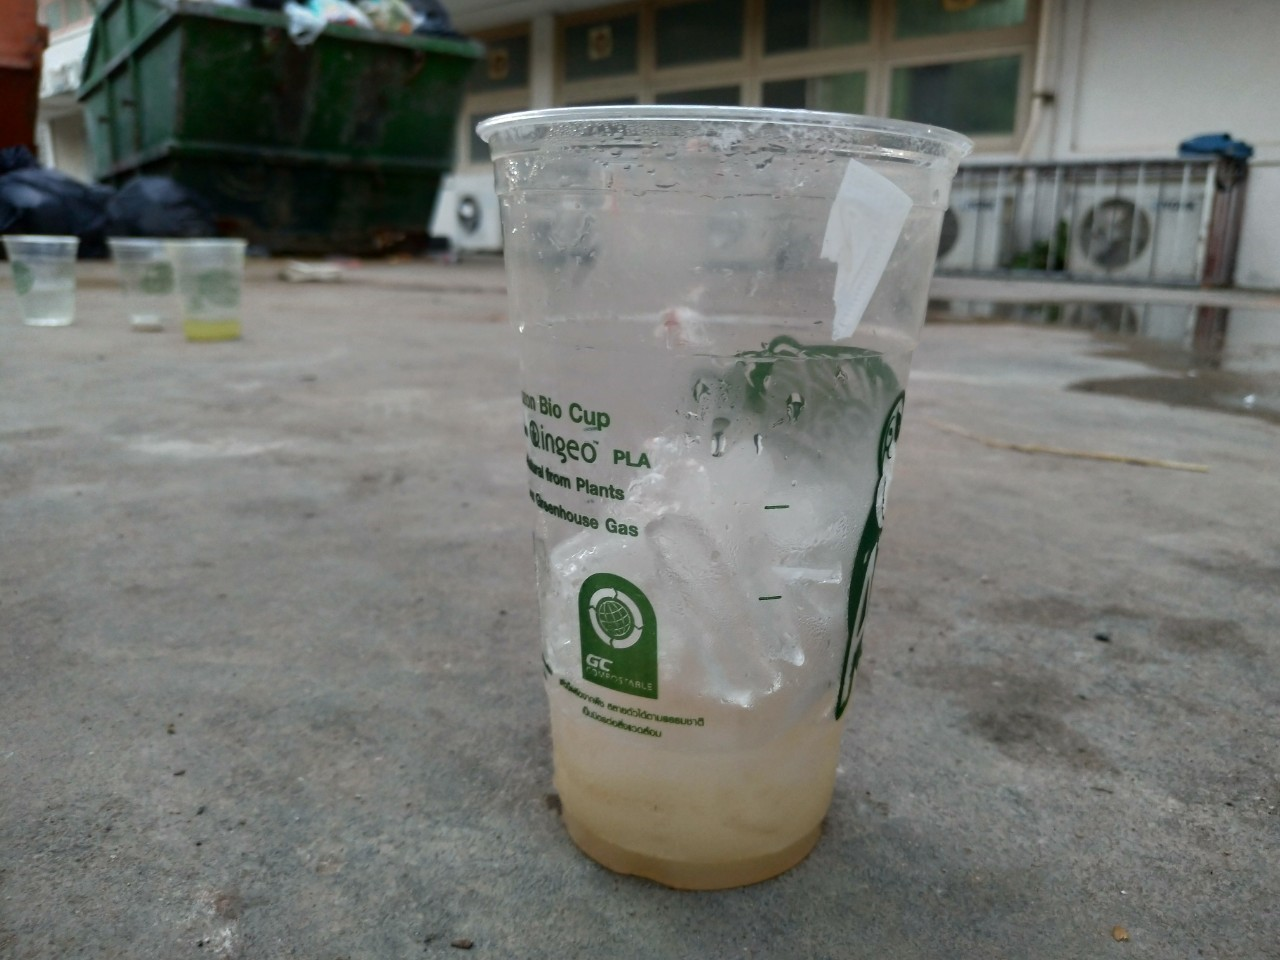PlasticCup: (474, 90, 968, 894), (167, 228, 258, 347), (110, 230, 185, 337), (11, 230, 85, 328)
